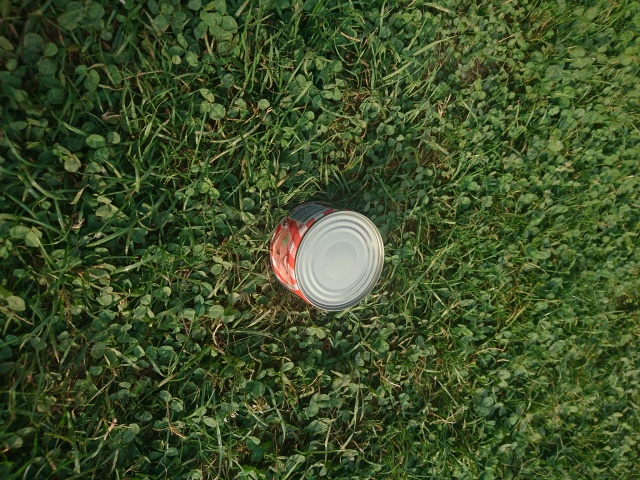Podravka Luncheon Meat 150g: (266, 198, 388, 315)
